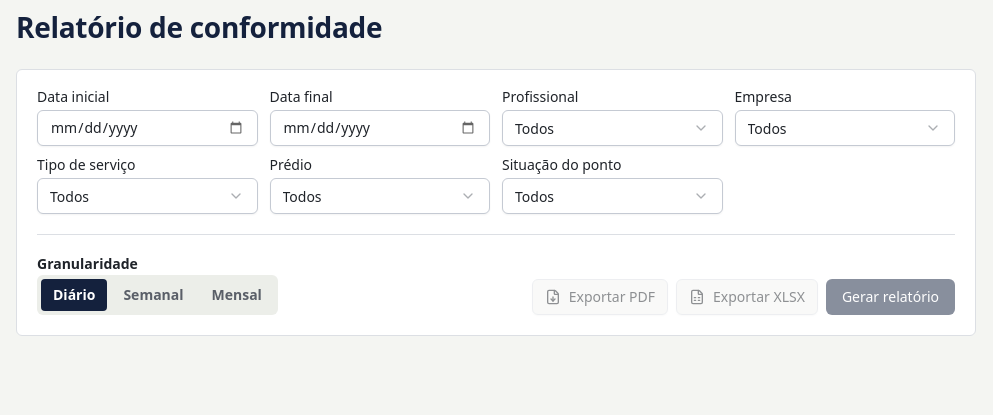
Test: ReportsPage › shows an export error when the download response is not ok
Type "2026-08-01" into the date field labelled "Data inicial". click: (147, 128)
box: left=37, top=110, right=258, bottom=146
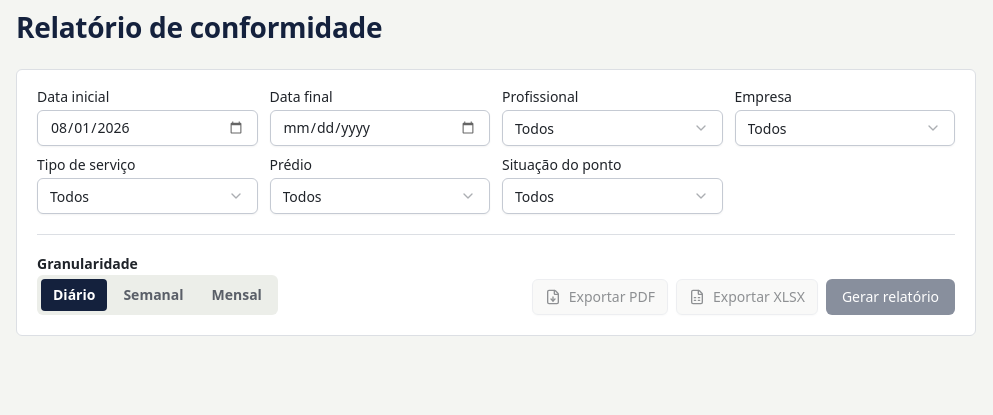
Type "2026-08-02" into the date field labelled "Data final". click: (380, 128)
box: left=270, top=110, right=490, bottom=146
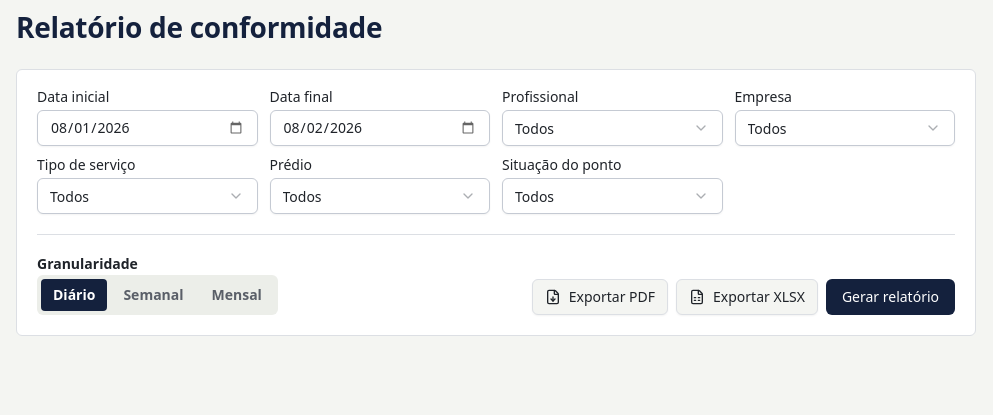
Click the button "Exportar XLSX". click: (747, 297)
box: left=676, top=279, right=818, bottom=315
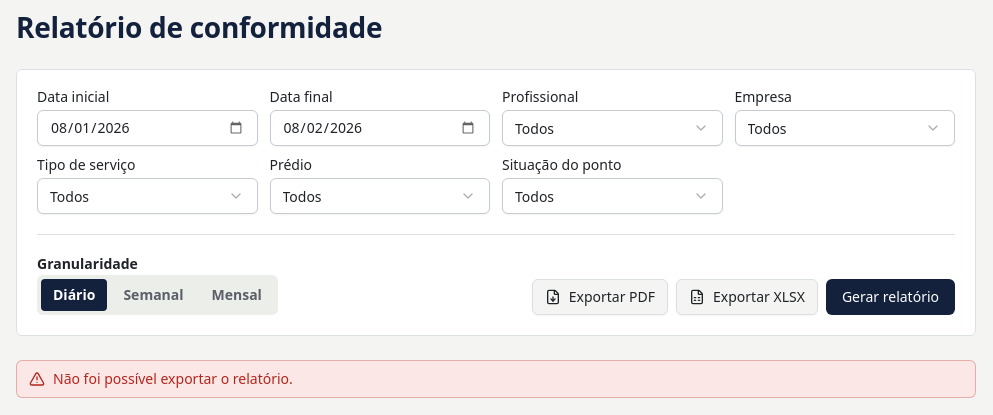
Check: the text "Não foi possível exportar o relatório." is shown, box left=53, top=369, right=293, bottom=389
